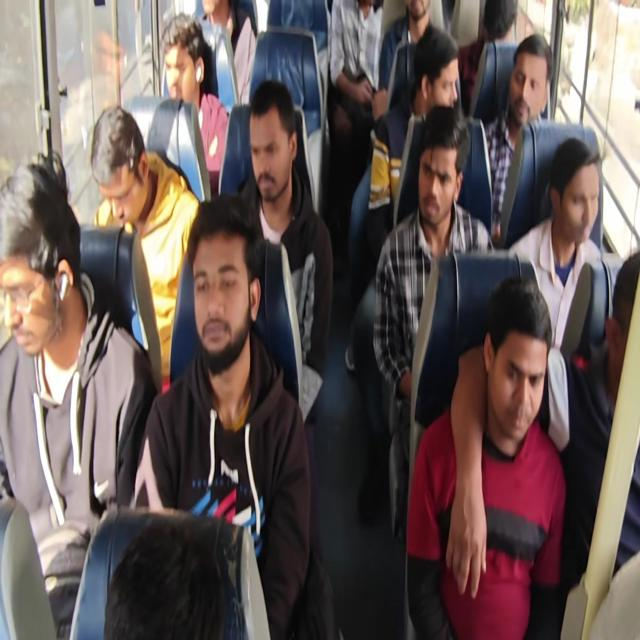person: (90, 482, 255, 640), (174, 222, 265, 372), (0, 170, 76, 334), (81, 106, 160, 228), (489, 288, 546, 441), (247, 100, 307, 216), (411, 136, 475, 230), (162, 28, 214, 122), (610, 244, 640, 403), (557, 146, 602, 238), (512, 43, 552, 132), (416, 62, 469, 128), (479, 0, 528, 59), (407, 0, 432, 41), (196, 0, 227, 31)
